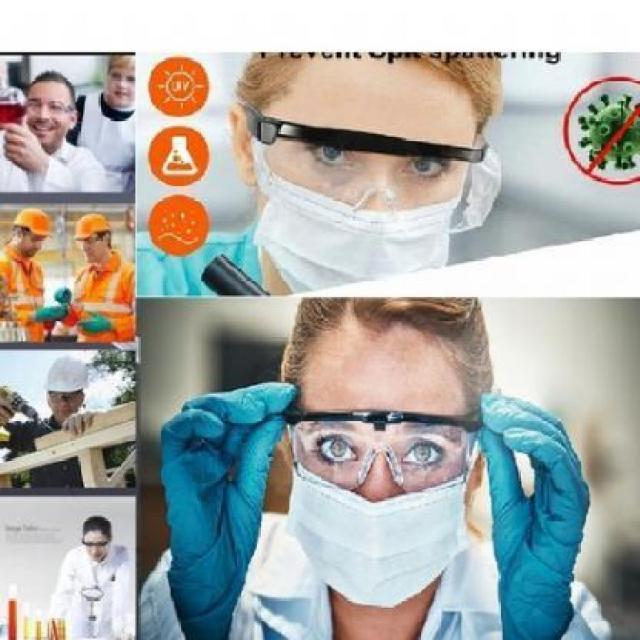Goggles: (237, 98, 485, 219), (267, 400, 491, 502), (23, 99, 82, 117), (42, 393, 92, 411), (17, 230, 53, 247), (81, 539, 116, 556), (72, 233, 106, 250)
